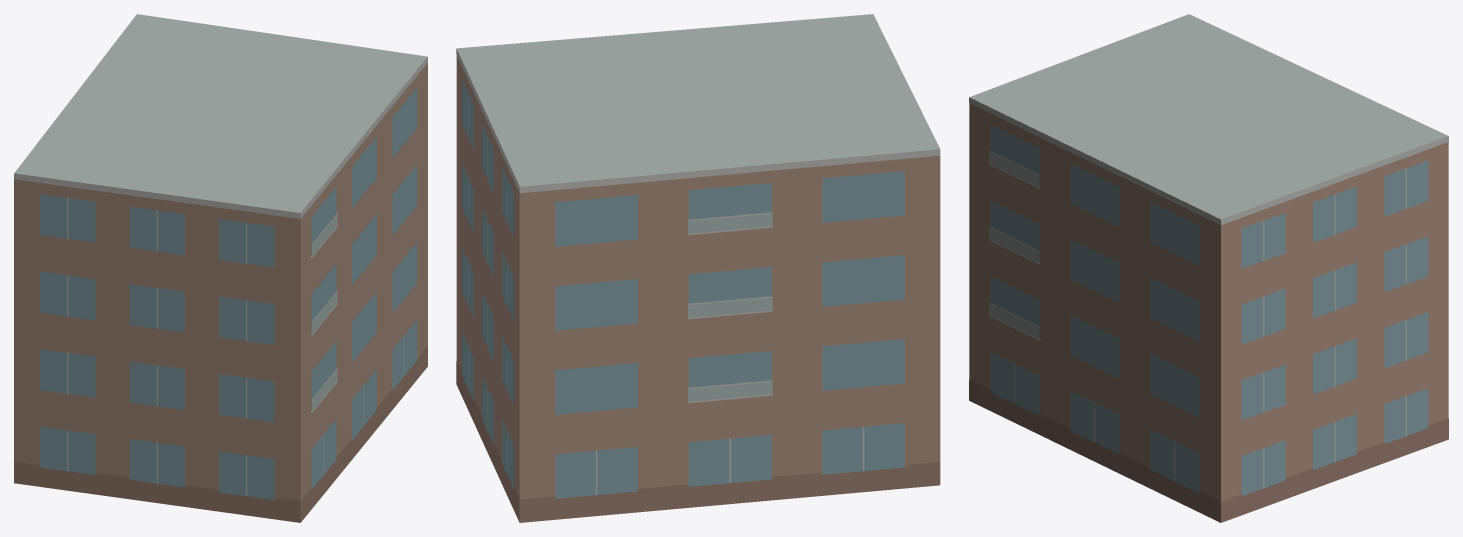
Rendered from survey-upis-32893357.glb.
3 renders of one model, left to right at view 1: azimuth 30°, elevation 25°; view 2: azimuth 150°, elevation 25°; view 3: azimuth 270°, elevation 25°, orthographic. The views are drawn at different scales.
Visible parts, largest first — view 1: survey-upis-32893357.tmp; view 2: survey-upis-32893357.tmp; view 3: survey-upis-32893357.tmp.
Part boxes in pixels (bbox=[...]): survey-upis-32893357.tmp: bbox=[14, 14, 427, 522]; survey-upis-32893357.tmp: bbox=[456, 14, 940, 522]; survey-upis-32893357.tmp: bbox=[969, 14, 1448, 522].
Size of the model in its own units: 18.52 by 12.75 by 18.27.
